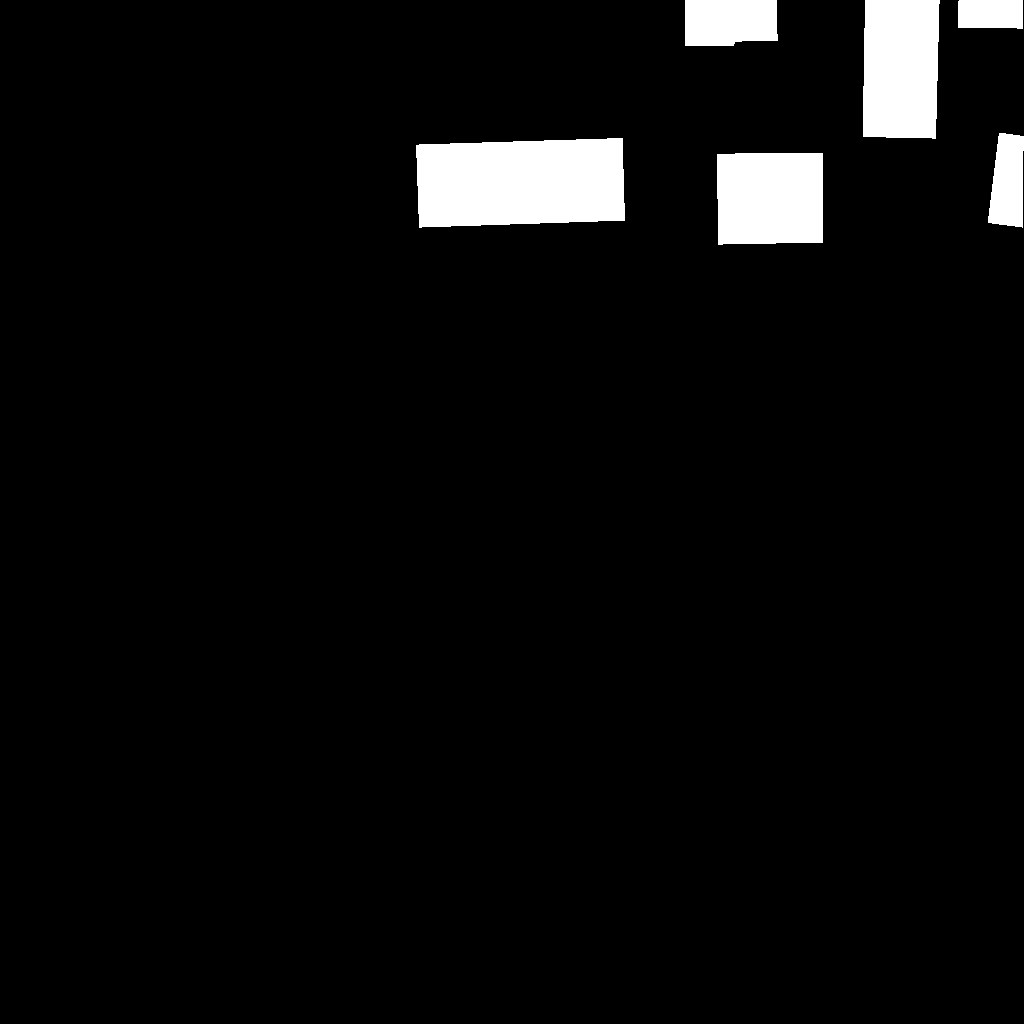building: (863, 0, 1024, 139), (416, 138, 626, 228), (717, 153, 824, 245), (685, 0, 778, 46), (988, 133, 1024, 228)
